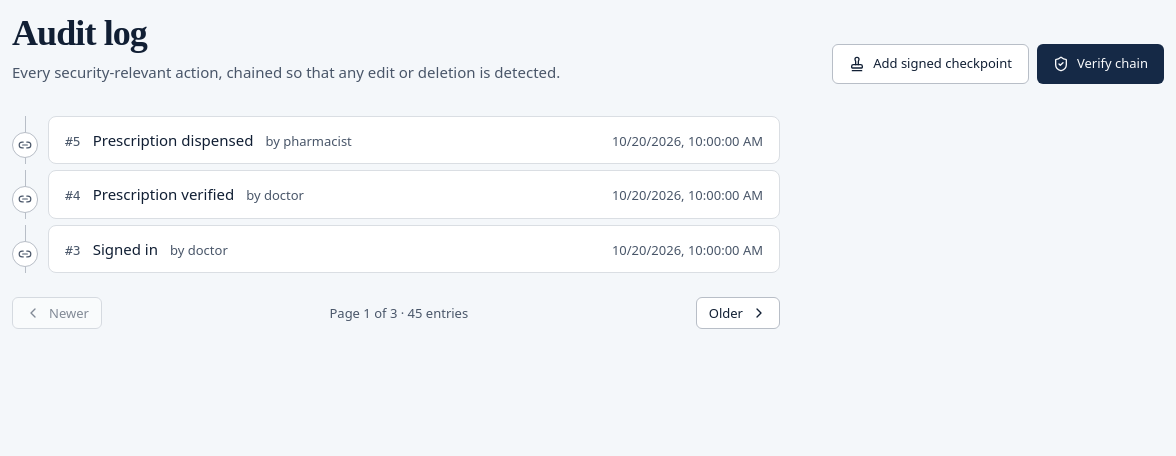
it: Audit page › shows the hashes that link an entry to the one before it when opened
Click the button "#4 Prescription verified by doctor 10/20/2026, 10:00:00 AM".
click(163, 194)  # box [49, 171, 779, 218]
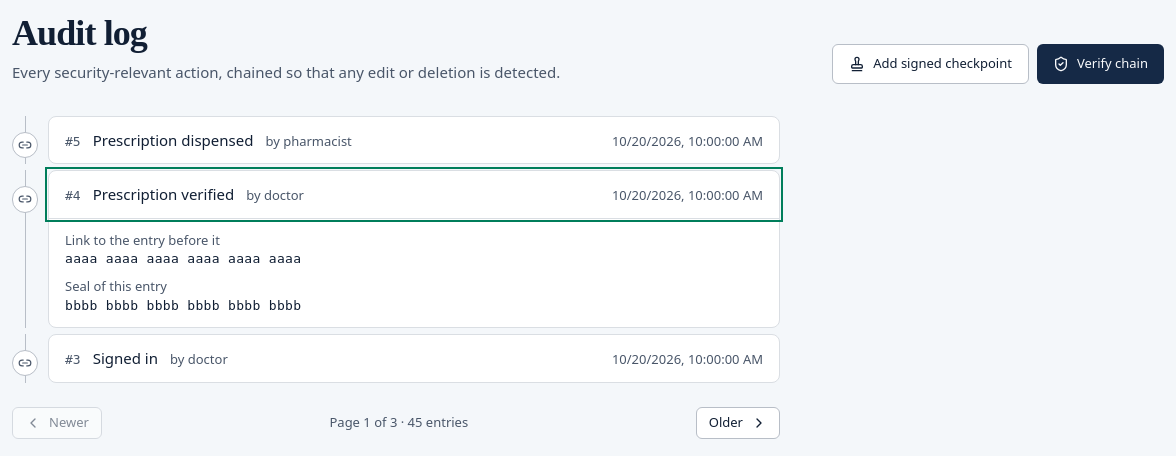
Expected: the text "Link to the entry before it" is shown, [65, 231, 220, 249]
Expected: the text "Seal of this entry" is shown, [65, 277, 167, 295]
